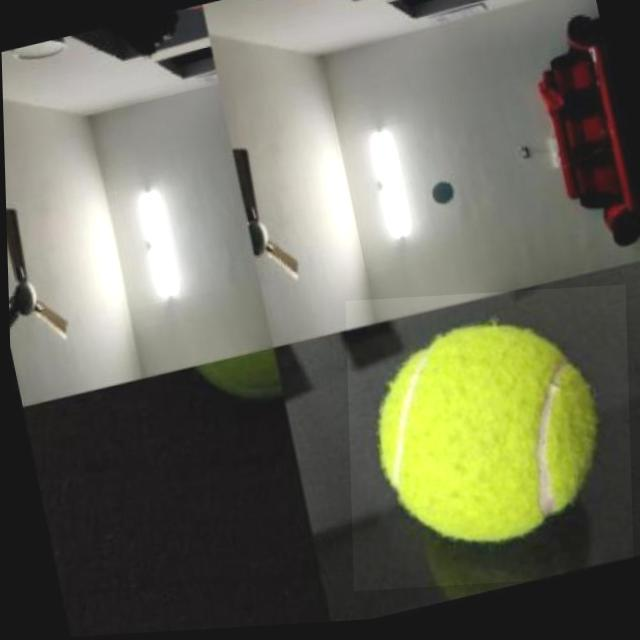-: (344, 292, 630, 596)
